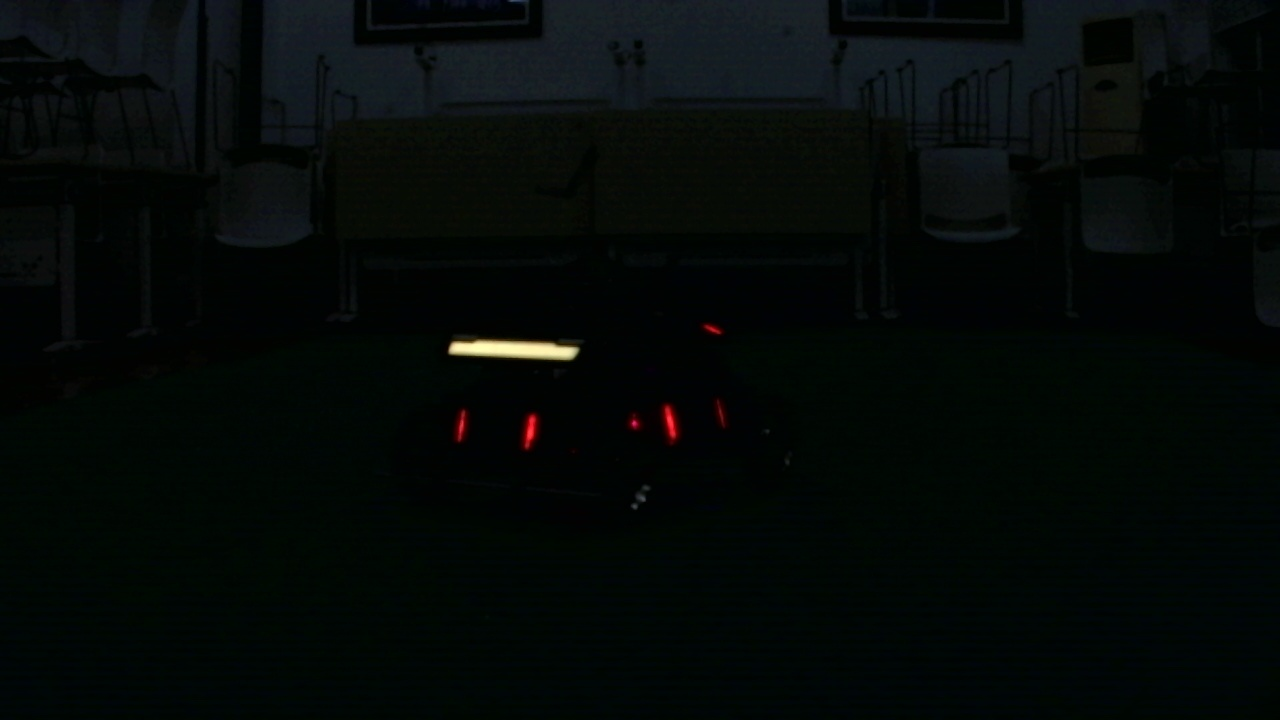lamp: (661, 405, 680, 438), (523, 412, 539, 447), (455, 409, 466, 441)
pair1: (458, 410, 534, 444)
